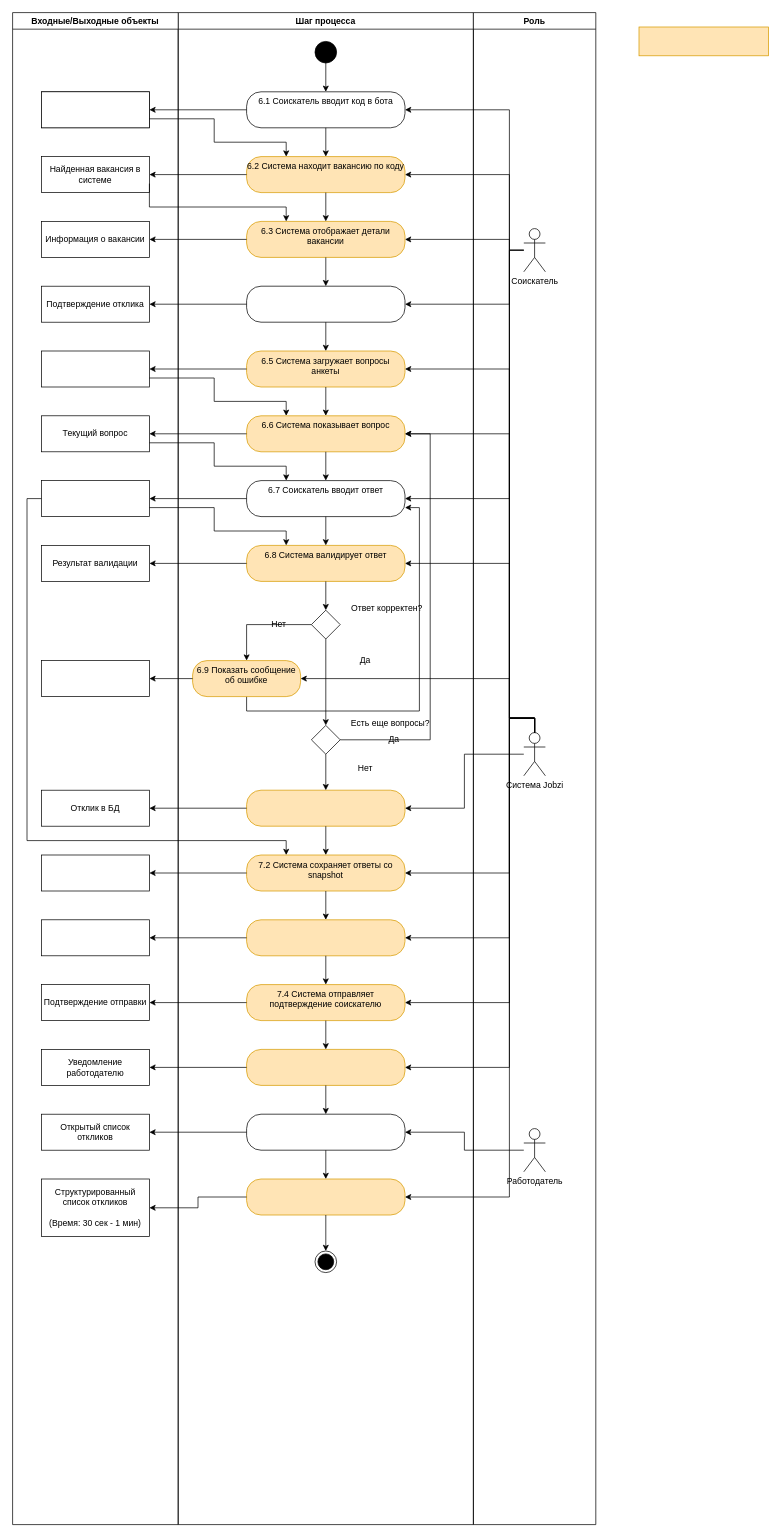
Some shapes in this 781 by 1537 pixel diagram are drawn without their labels. Here are the shapes that lost their labels. From the top down, the centre of each, then its label:
At (x=703, y=41): "Автоматизированный шаг".
At (x=95, y=109): "Введенный код".
At (x=325, y=303): "6.4 Соискатель подтверждает отклик".
At (x=95, y=368): "Список вопросов".
At (x=95, y=498): "Ответ соискателя".
At (x=95, y=678): "Сообщение об ошибке".
At (x=325, y=807): "7.1 Система создает отклик в БД".
At (x=95, y=872): "Ответы со snapshot".
At (x=95, y=937): "Статус NEW".
At (x=325, y=937): "7.3 Система устанавливает статус NEW".
At (x=325, y=1067): "8.1 Система уведомляет работодателя о новом отклике".
At (x=325, y=1131): "8.2 Работодатель открывает список откликов".
At (x=325, y=1196): "8.3 Система отображает структурированные отклики".
